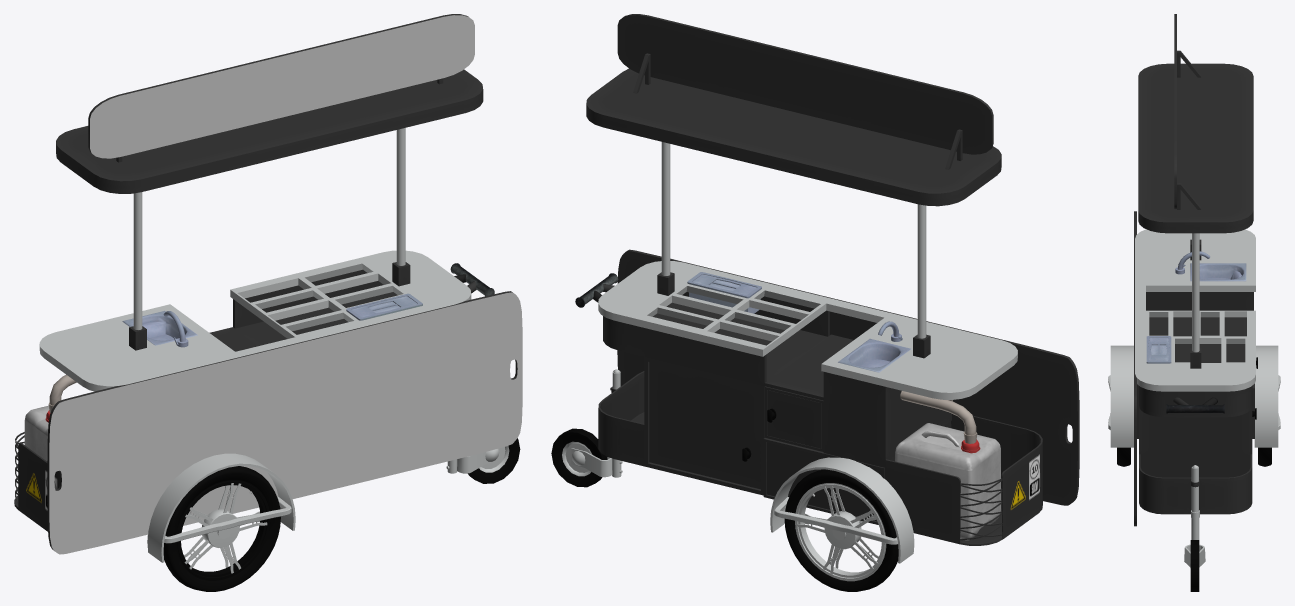
The model's file is park_ice_cream_truck.fbx.
The picture shows the model from 3 angles, left to right: view 1: azimuth 30°, elevation 25°; view 2: azimuth 150°, elevation 25°; view 3: azimuth 270°, elevation 25°; orthographic projection. The views are drawn at different scales.
Parts seen in each view (by area): view 1: park_ice_cream_truck_main_LOD0, park_ice_cream_truck_wheel_2_LOD0, park_ice_cream_truck_wheel_1_LOD0, park_ice_cream_truck_lid_LOD0, park_ice_cream_truck_canister_1_LOD0; view 2: park_ice_cream_truck_main_LOD0, park_ice_cream_truck_door_1_LOD0, park_ice_cream_truck_wheel_2_LOD0, park_ice_cream_truck_canister_1_LOD0, park_ice_cream_truck_door_2_LOD0, park_ice_cream_truck_wheel_1_LOD0, park_ice_cream_truck_lid_LOD0, park_ice_cream_truck_detail_1_LOD0; view 3: park_ice_cream_truck_main_LOD0, park_ice_cream_truck_lid_LOD0, park_ice_cream_truck_wheel_2_LOD0, park_ice_cream_truck_wheel_1_LOD0, park_ice_cream_truck_detail_1_LOD0.
Part boxes in pixels (x1,y1,x2,y2): park_ice_cream_truck_main_LOD0: [14, 14, 522, 562]; park_ice_cream_truck_wheel_2_LOD0: [163, 466, 280, 591]; park_ice_cream_truck_wheel_1_LOD0: [468, 438, 520, 483]; park_ice_cream_truck_lid_LOD0: [346, 293, 422, 320]; park_ice_cream_truck_canister_1_LOD0: [24, 405, 49, 461]; park_ice_cream_truck_main_LOD0: [575, 14, 1079, 563]; park_ice_cream_truck_door_1_LOD0: [649, 362, 760, 489]; park_ice_cream_truck_wheel_2_LOD0: [784, 469, 898, 591]; park_ice_cream_truck_canister_1_LOD0: [895, 423, 1000, 540]; park_ice_cream_truck_door_2_LOD0: [767, 390, 821, 448]; park_ice_cream_truck_wheel_1_LOD0: [551, 428, 607, 487]; park_ice_cream_truck_lid_LOD0: [687, 272, 761, 298]; park_ice_cream_truck_detail_1_LOD0: [571, 448, 622, 477]; park_ice_cream_truck_main_LOD0: [1108, 14, 1280, 526]; park_ice_cream_truck_lid_LOD0: [1146, 336, 1171, 363]; park_ice_cream_truck_wheel_2_LOD0: [1117, 447, 1271, 466]; park_ice_cream_truck_wheel_1_LOD0: [1190, 540, 1199, 591]; park_ice_cream_truck_detail_1_LOD0: [1184, 518, 1205, 566].
Size of what is drawn, in the model's own units: 199 by 184 by 69.6.
